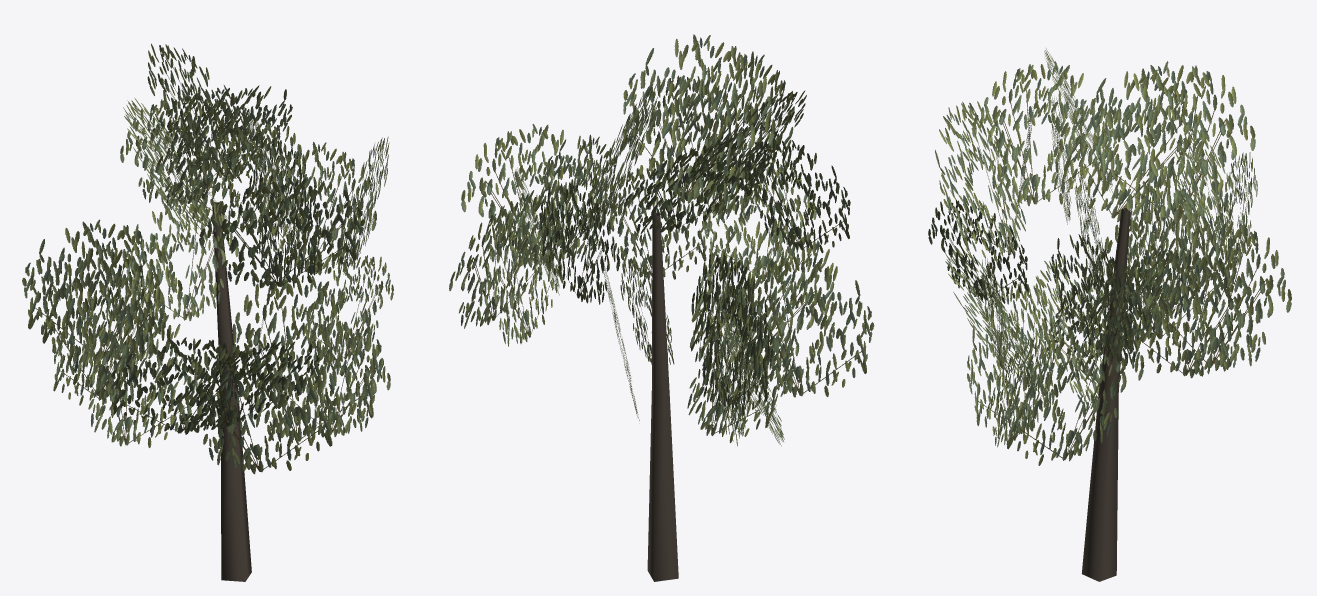
Rendered from tpl_westdike_dike_willow_lo.glb.
3 views of the same model, side by side, from view 1: azimuth 30°, elevation 25°; view 2: azimuth 150°, elevation 25°; view 3: azimuth 270°, elevation 25° (orthographic). The views are drawn at different scales.
Parts seen in each view (by area): view 1: tpl_westdike_dike_willow_lo; view 2: tpl_westdike_dike_willow_lo; view 3: tpl_westdike_dike_willow_lo.
Boxes of the visible parts, x1,y1,x2,y2 form: tpl_westdike_dike_willow_lo: (22, 43, 393, 581); tpl_westdike_dike_willow_lo: (449, 34, 874, 581); tpl_westdike_dike_willow_lo: (928, 48, 1291, 581).
Size of the model in its own units: 13.71 by 17.49 by 12.04.
Materials: 2 (1 with a texture image).
